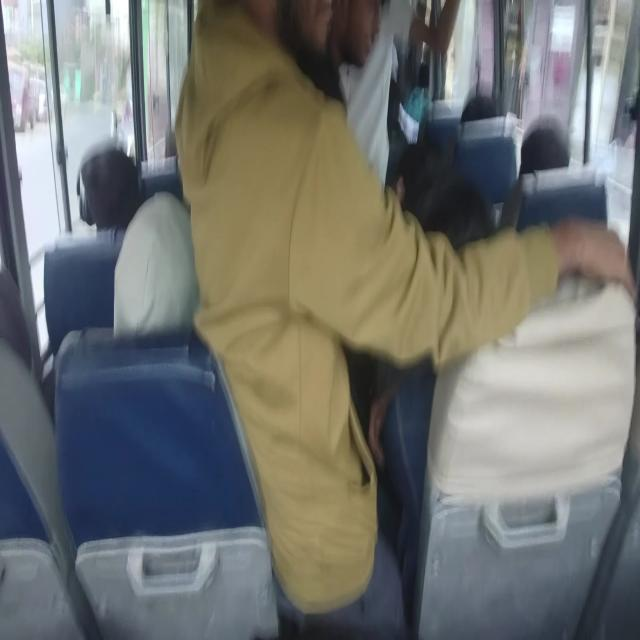person: (112, 191, 198, 344), (335, 0, 400, 188), (0, 356, 55, 558), (449, 120, 517, 216), (516, 170, 610, 238), (78, 144, 140, 236), (0, 268, 35, 380), (337, 0, 384, 69), (518, 118, 571, 176), (422, 112, 466, 158), (459, 93, 498, 125), (164, 124, 178, 158)
